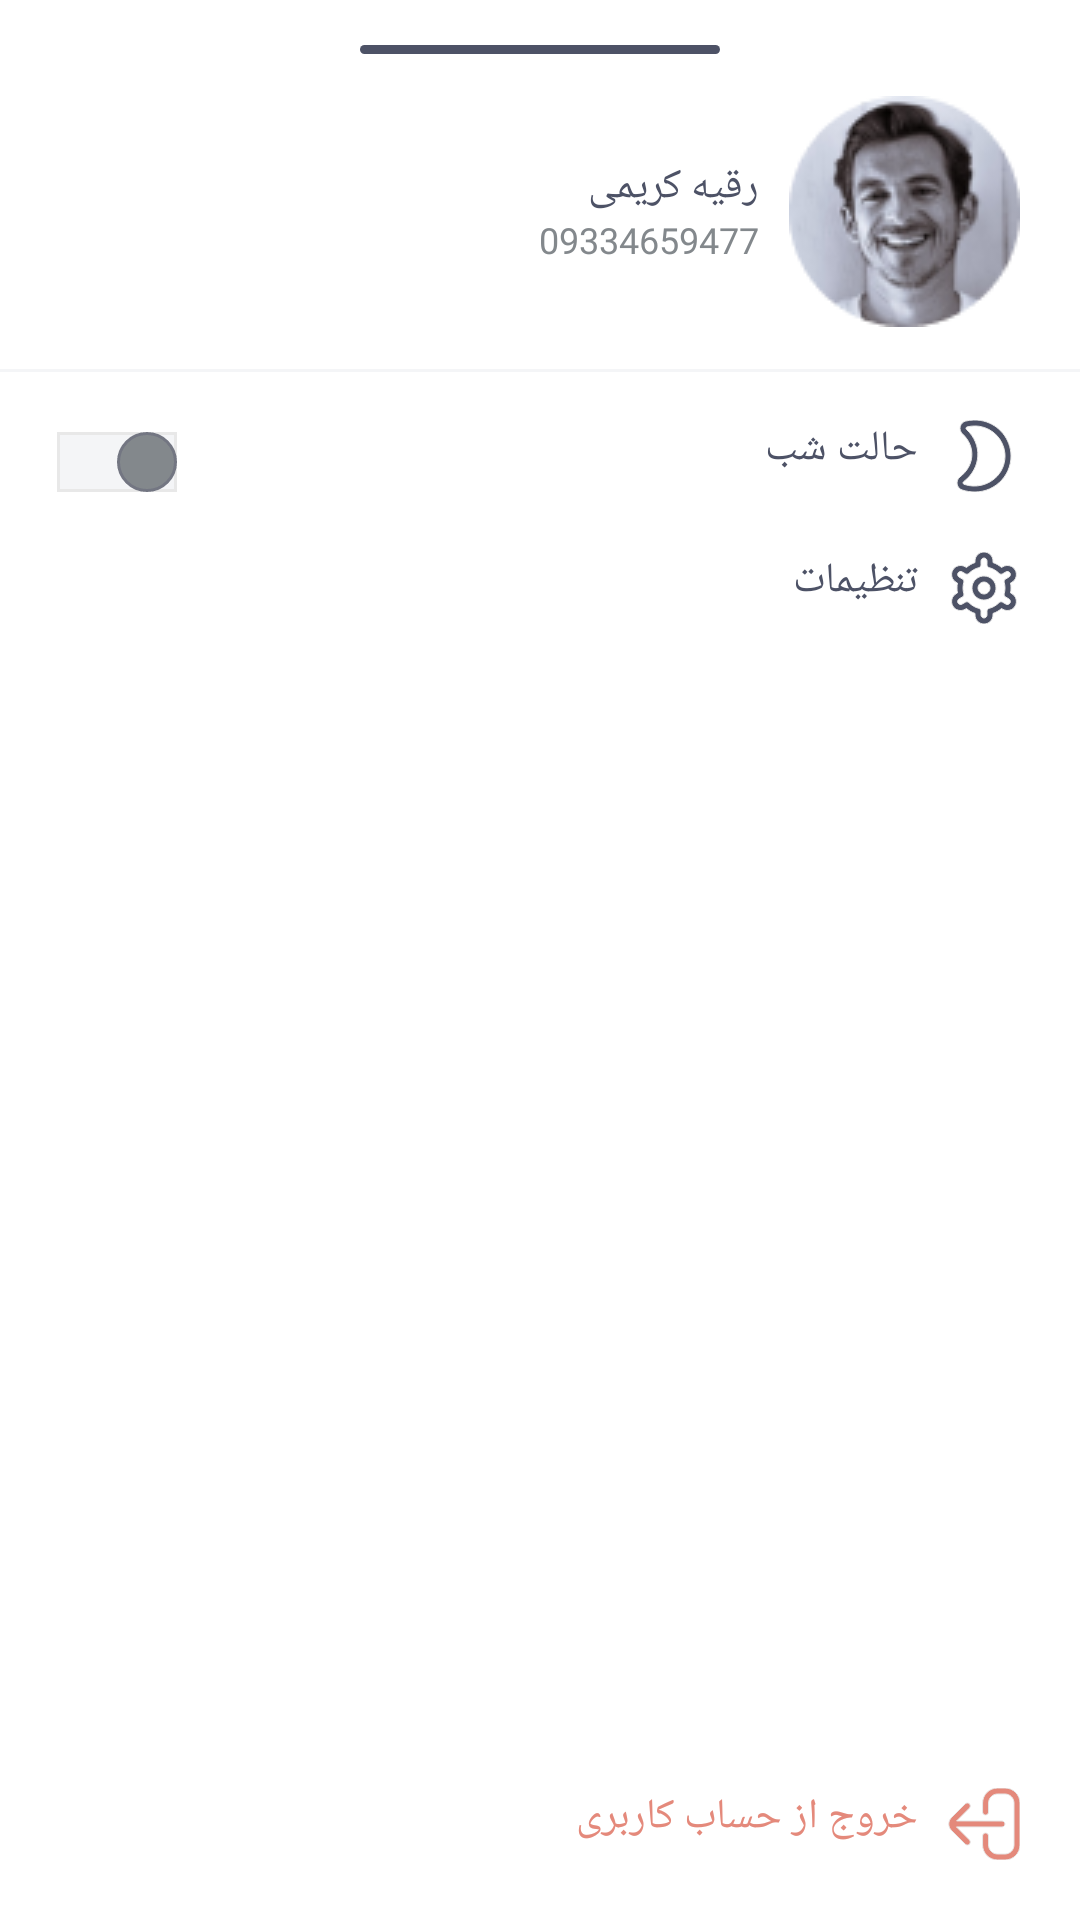

Icons on this 1080 x 1920 Android screen, each with the point to tap as (x,y):
picture user: (904,211)
